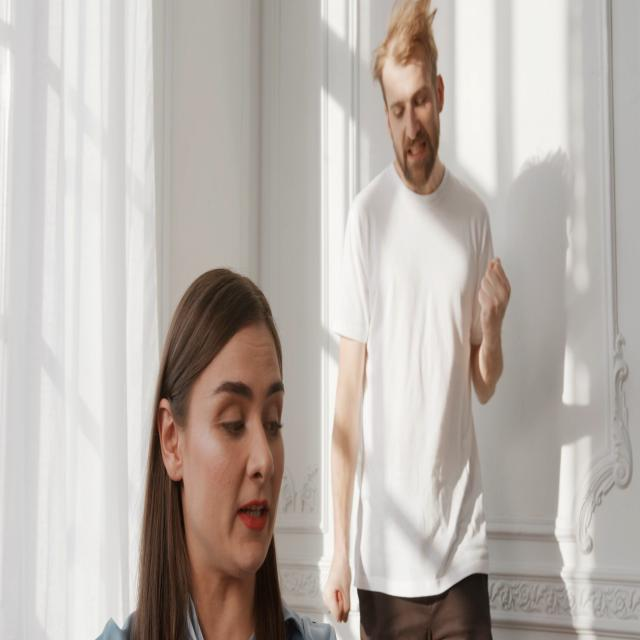angry: (368, 3, 452, 221)
satisfied: (141, 266, 318, 604)
